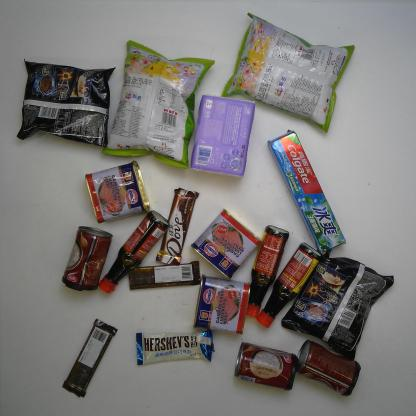Canned Food: (190, 209, 261, 280), (85, 159, 151, 223), (294, 339, 361, 396), (193, 274, 252, 334), (61, 226, 113, 291), (233, 341, 298, 391)
Chocolate: (62, 318, 118, 398), (155, 184, 203, 268), (136, 328, 214, 366), (128, 260, 202, 290)
Instant Noodles: (282, 254, 394, 361), (17, 54, 118, 154)
Personal Hygiene: (266, 129, 346, 256)
Puffed Food: (218, 11, 356, 133), (102, 41, 214, 170)
Seasoner: (87, 206, 169, 296), (257, 242, 323, 328), (243, 225, 290, 318)
Tissue: (189, 94, 261, 177)
